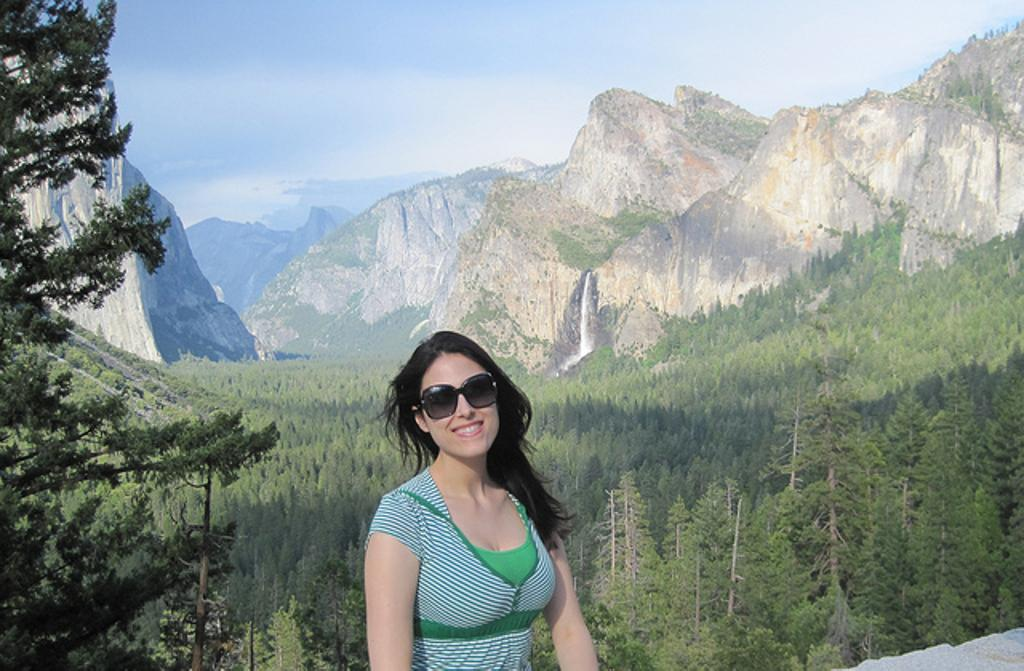face: (419, 357, 498, 452)
